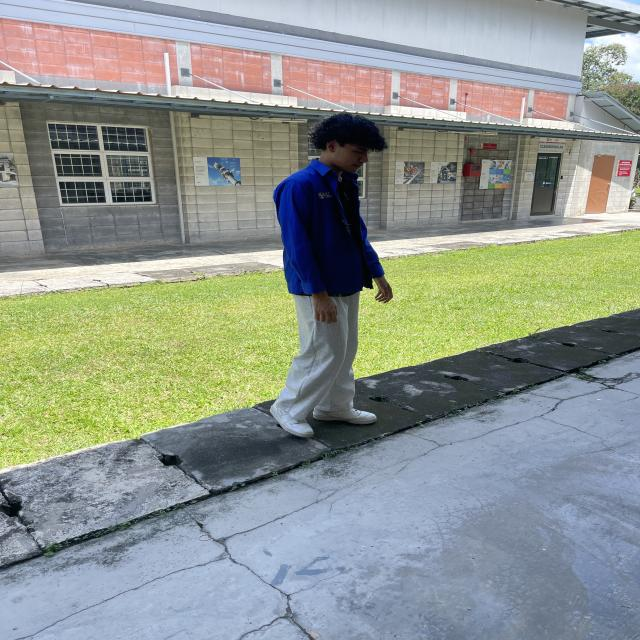person_with_labcoat: (270, 113, 393, 437)
